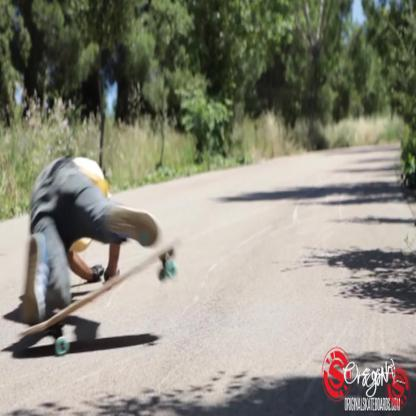Fall_Down: (22, 152, 160, 329)
